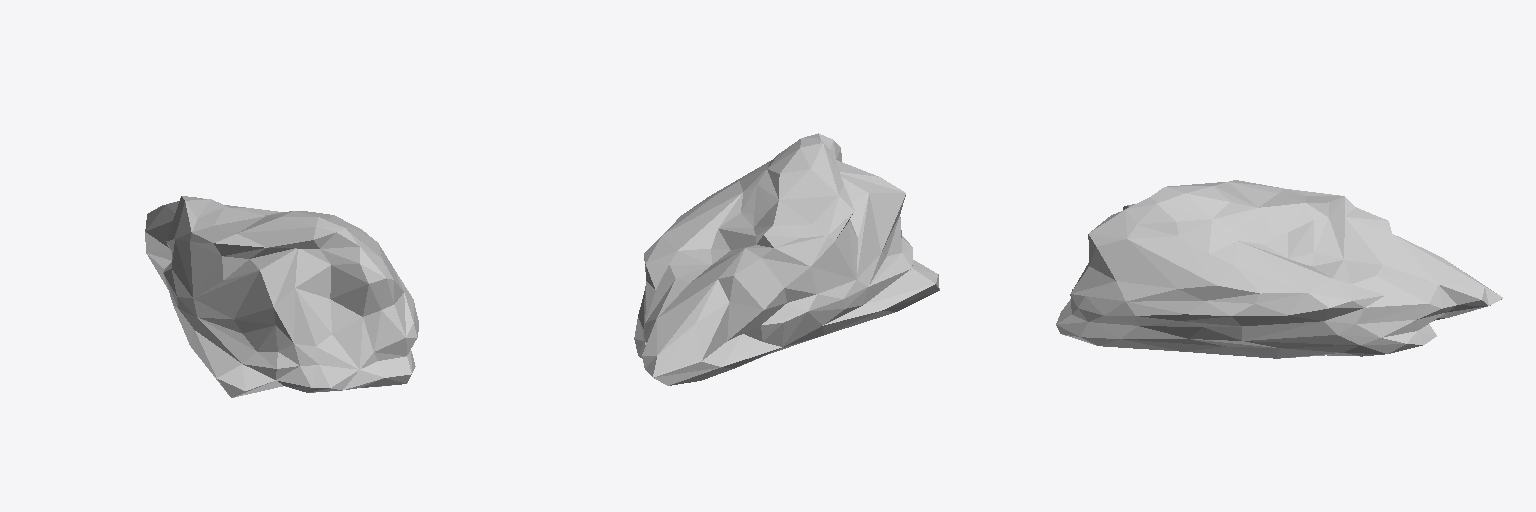
File: Rock5.obj
3 renders of one model, left to right at view 1: azimuth 30°, elevation 25°; view 2: azimuth 150°, elevation 25°; view 3: azimuth 270°, elevation 25°, orthographic.
Visible parts, largest first — view 1: Group59011; view 2: Group59011; view 3: Group59011.
Part boxes in pixels (left/top/right/bottom): Group59011: left=145, top=196, right=418, bottom=397; Group59011: left=634, top=133, right=939, bottom=385; Group59011: left=1056, top=180, right=1502, bottom=358.
Size of the model in its own units: 2.92 by 1.9 by 5.47.